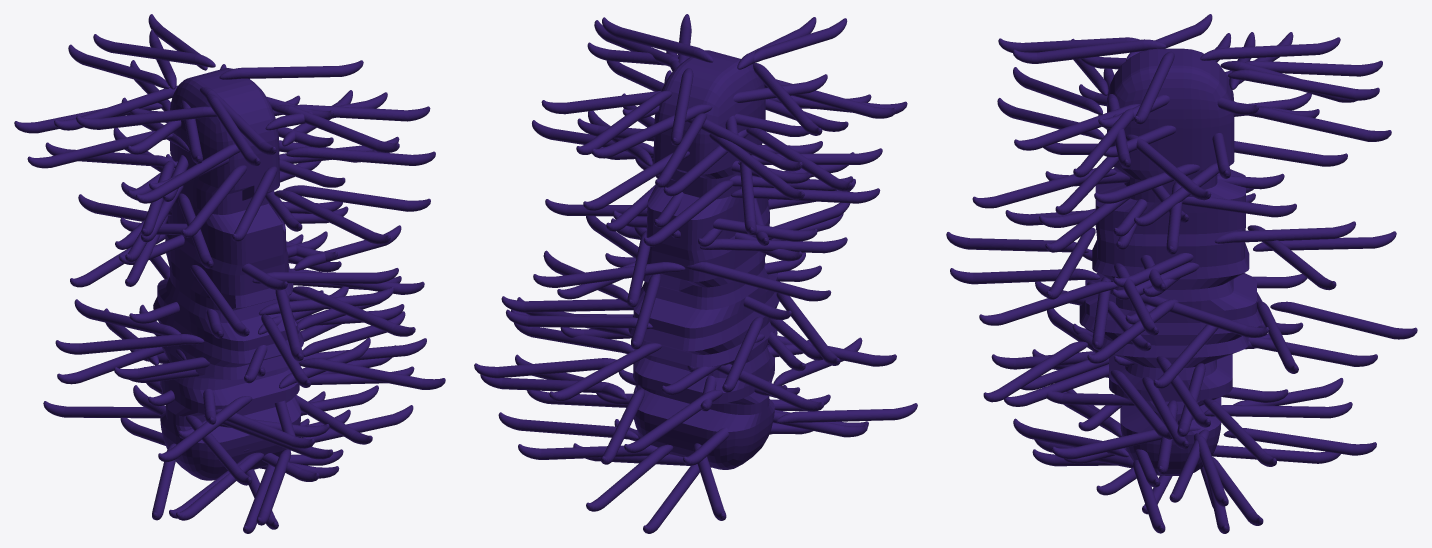
File: CandidaModel.fbx
3 renders of one model, left to right at view 1: azimuth 30°, elevation 25°; view 2: azimuth 150°, elevation 25°; view 3: azimuth 270°, elevation 25°, orthographic. The views are drawn at different scales.
Parts seen in each view (by area): view 1: Candida, Candida|folicules|Dupli|46, Candida|folicules|Dupli|120, Candida|folicules|Dupli|91, Candida|folicules|Dupli|64, Candida|folicules|Dupli|61, Candida|folicules|Dupli|118, Candida|folicules|Dupli|108, Candida|folicules|Dupli|70, Candida|folicules|Dupli|80, Candida|folicules|Dupli|90, Candida|folicules|Dupli|35 (+57 smaller); view 2: Candida, Candida|folicules|Dupli|106, Candida|folicules|Dupli|112, Candida|folicules|Dupli|93, Candida|folicules|Dupli|83, Candida|folicules|Dupli|49, Candida|folicules|Dupli|111, Candida|folicules|Dupli|66, Candida|folicules|Dupli|1, Candida|folicules|Dupli|30, Candida|folicules|Dupli|12, Candida|folicules|Dupli|61 (+57 smaller); view 3: Candida, Candida|folicules|Dupli|48, Candida|folicules|Dupli|10, Candida|folicules|Dupli|30, Candida|folicules|Dupli|67, Candida|folicules|Dupli|90, Candida|folicules|Dupli|20, Candida|folicules|Dupli|70, Candida|folicules|Dupli|101, Candida|folicules|Dupli|78, Candida|folicules|Dupli|68, Candida|folicules|Dupli|33 (+58 smaller).
Boxes of the visible parts, x1,y1,x2,y2 form: Candida: (153,68,303,480); Candida|folicules|Dupli|46: (55,334,204,354); Candida|folicules|Dupli|120: (286,146,435,165); Candida|folicules|Dupli|91: (299,358,445,389); Candida|folicules|Dupli|64: (283,185,430,211); Candida|folicules|Dupli|61: (219,60,363,79); Candida|folicules|Dupli|118: (76,106,216,129); Candida|folicules|Dupli|108: (252,268,398,283); Candida|folicules|Dupli|70: (292,286,415,336); Candida|folicules|Dupli|80: (274,190,390,244); Candida|folicules|Dupli|90: (93,34,215,67); Candida|folicules|Dupli|35: (27,131,172,168); Candida: (628,50,779,469); Candida|folicules|Dupli|106: (686,262,831,301); Candida|folicules|Dupli|112: (776,403,917,423); Candida|folicules|Dupli|93: (533,262,685,287); Candida|folicules|Dupli|83: (474,358,616,378); Candida|folicules|Dupli|49: (506,309,652,329); Candida|folicules|Dupli|111: (700,237,847,253); Candida|folicules|Dupli|66: (501,296,633,312); Candida|folicules|Dupli|1: (498,412,638,439); Candida|folicules|Dupli|30: (549,343,661,401); Candida|folicules|Dupli|12: (731,187,880,203); Candida|folicules|Dupli|61: (602,17,713,62); Candida: (1079,48,1262,475); Candida|folicules|Dupli|48: (1227,69,1379,100); Candida|folicules|Dupli|10: (1012,39,1166,63); Candida|folicules|Dupli|30: (1270,301,1417,339); Candida|folicules|Dupli|67: (1248,106,1391,141); Candida|folicules|Dupli|90: (1200,37,1340,60); Candida|folicules|Dupli|20: (1214,221,1355,243); Candida|folicules|Dupli|70: (979,281,1117,325); Candida|folicules|Dupli|101: (1223,428,1376,455); Candida|folicules|Dupli|78: (950,268,1099,284); Candida|folicules|Dupli|68: (1204,402,1352,418); Candida|folicules|Dupli|33: (1245,60,1382,76).
Bounding box in the file's own units: 194 × 208 × 210.
